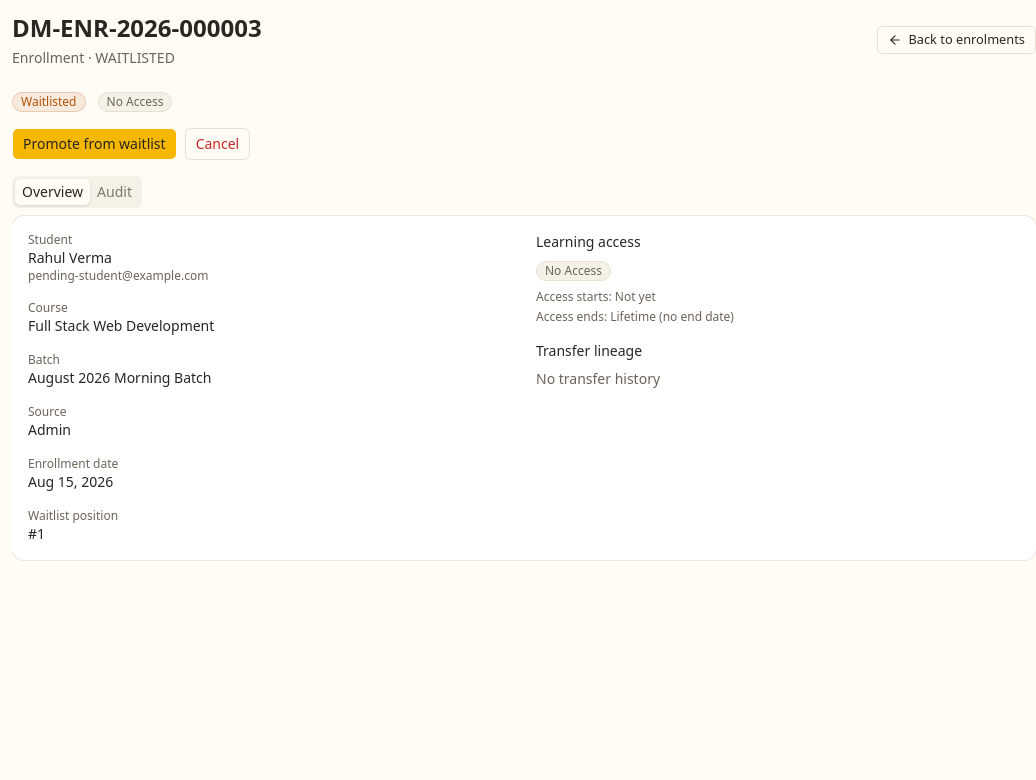
Test: EnrollmentDetailPage › promotes a WAITLISTED enrollment when a seat is available
Expected: the heading "DM-ENR-2026-000003" is shown, [12, 12, 262, 44]
Expected: the text "Waitlisted" is shown, [12, 92, 86, 112]
Click the button "Promote from waitlist" at (94, 144), box [12, 128, 177, 160]
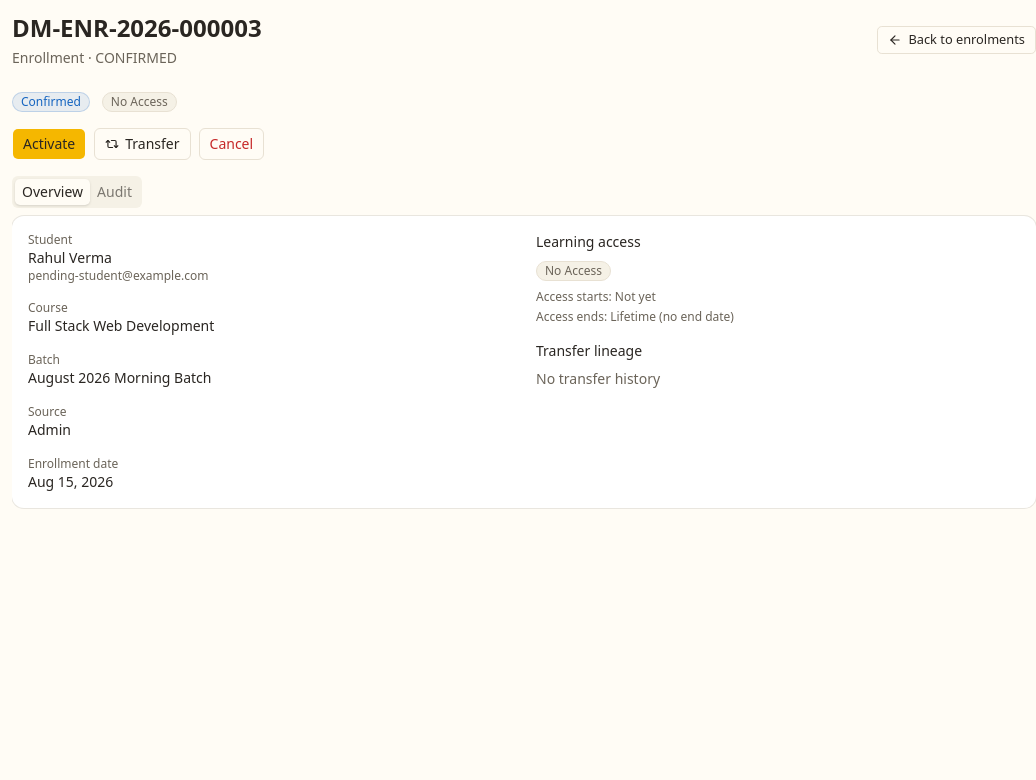
Result: the text "Confirmed" is shown at [12, 92, 90, 112]
